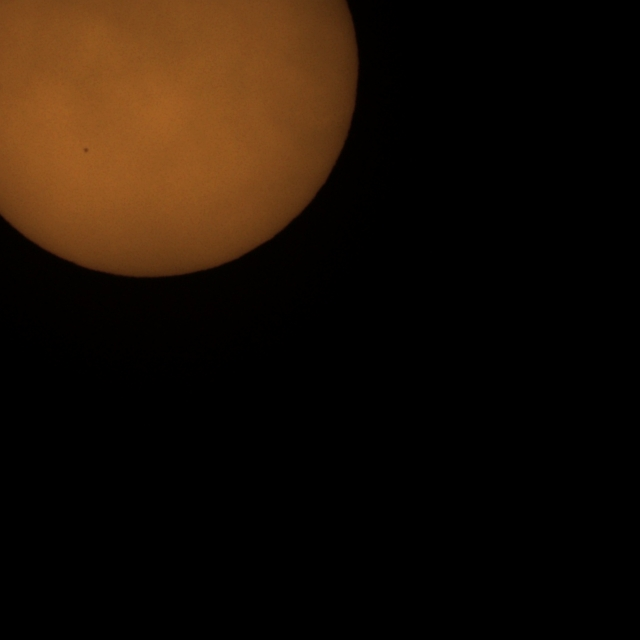sunspot: (82, 146, 90, 154)
